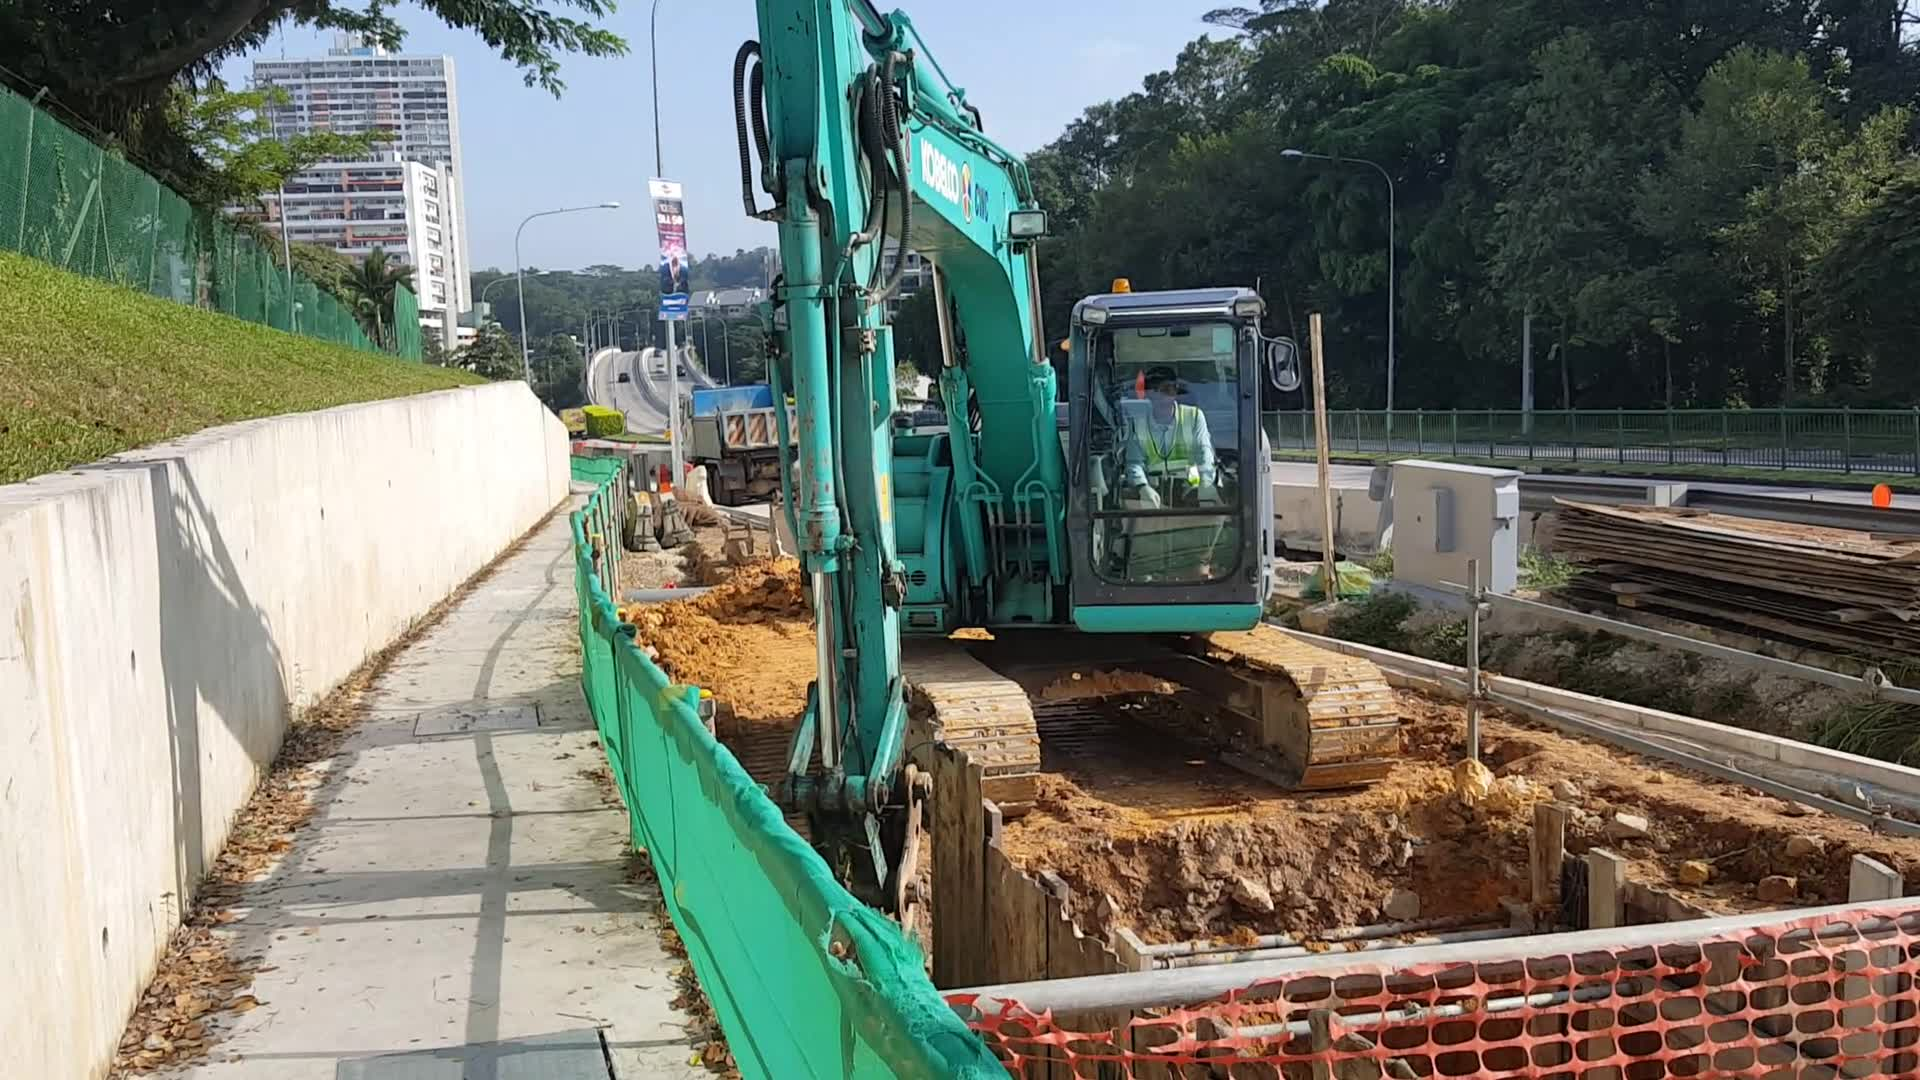cabin: (877, 281, 1280, 636)
forearm: (760, 3, 909, 789)
upperarm: (870, 88, 1062, 567)
wheelbase: (897, 636, 1404, 795)
